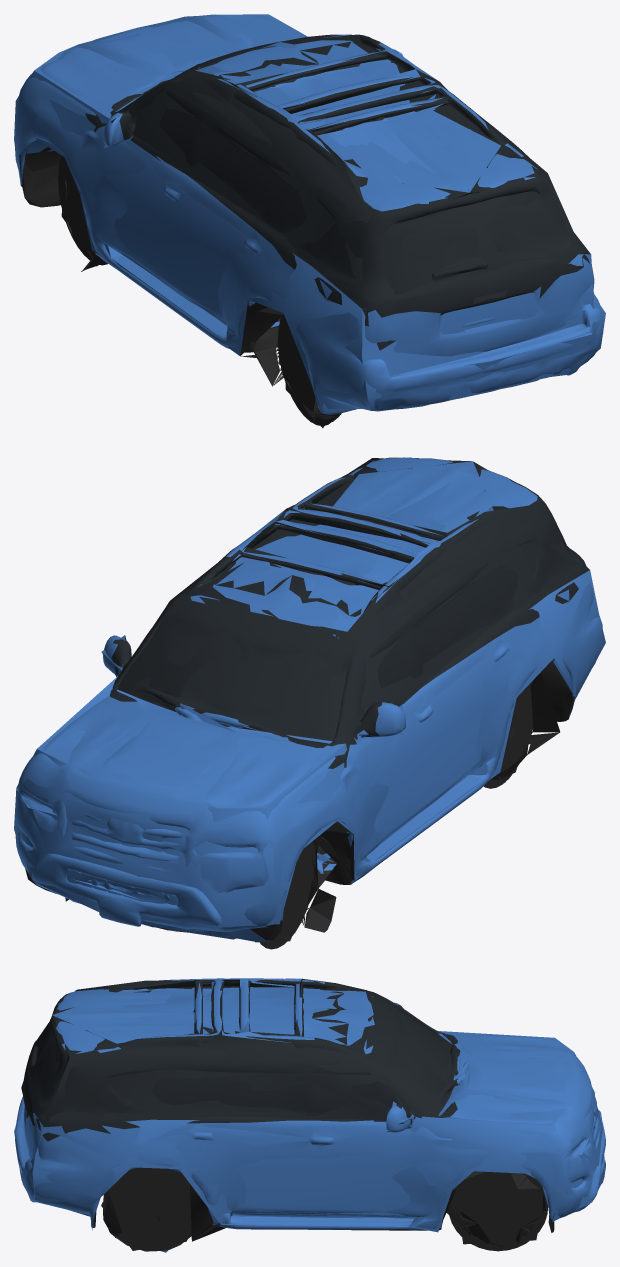
Rendered from nissan-armada.glb.
3 views of the same model, one above another, from view 1: azimuth 30°, elevation 25°; view 2: azimuth 150°, elevation 25°; view 3: azimuth 270°, elevation 25° (orthographic). The views are drawn at different scales.
Parts seen in each view (by area): view 1: body, far; view 2: body, far; view 3: body, far.
Part boxes in pixels (<box>): body: <box>15,14,603,426</box>; far: <box>14,14,605,427</box>; body: <box>15,457,602,949</box>; far: <box>14,458,605,942</box>; body: <box>15,978,605,1251</box>; far: <box>14,978,603,1252</box>.
Bounding box in the file's own units: 2.46 × 2.14 × 5.37.
